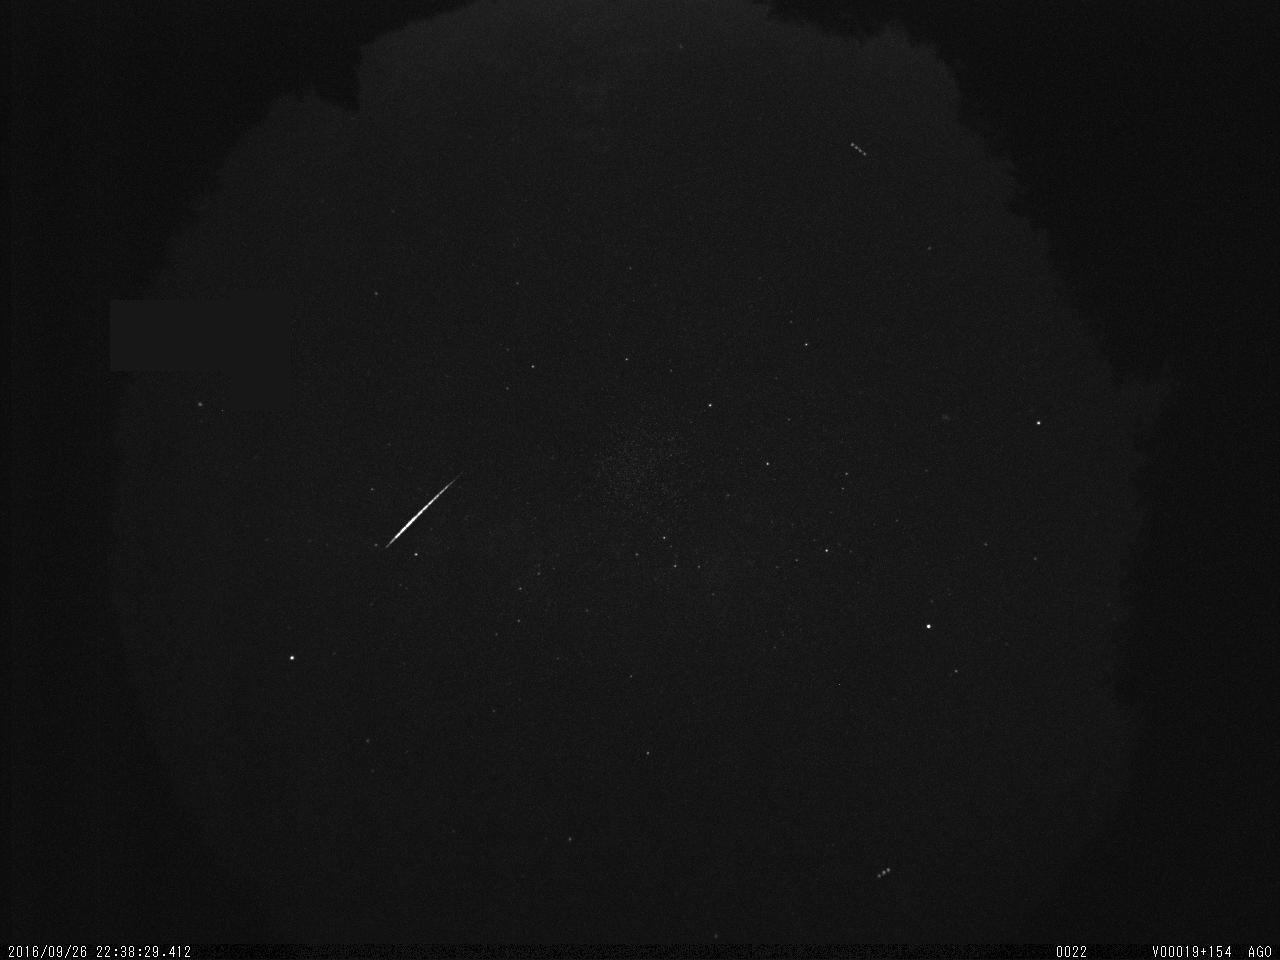meteor: (368, 469, 470, 555)
